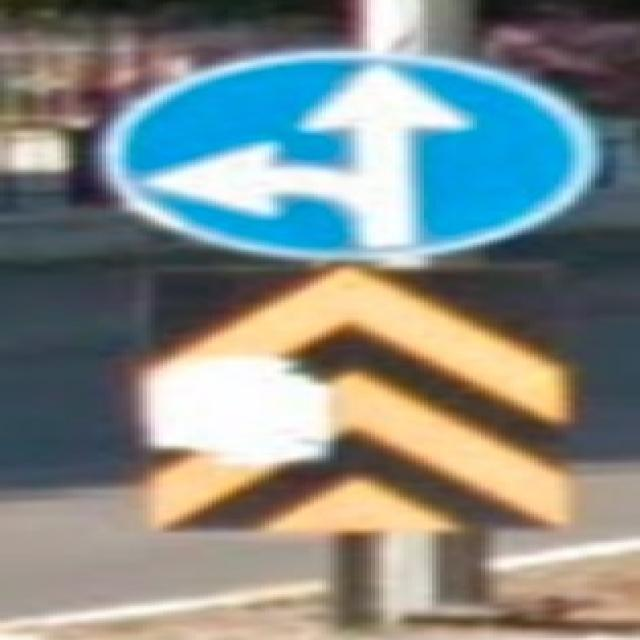Straight or Left: (97, 53, 594, 260)
